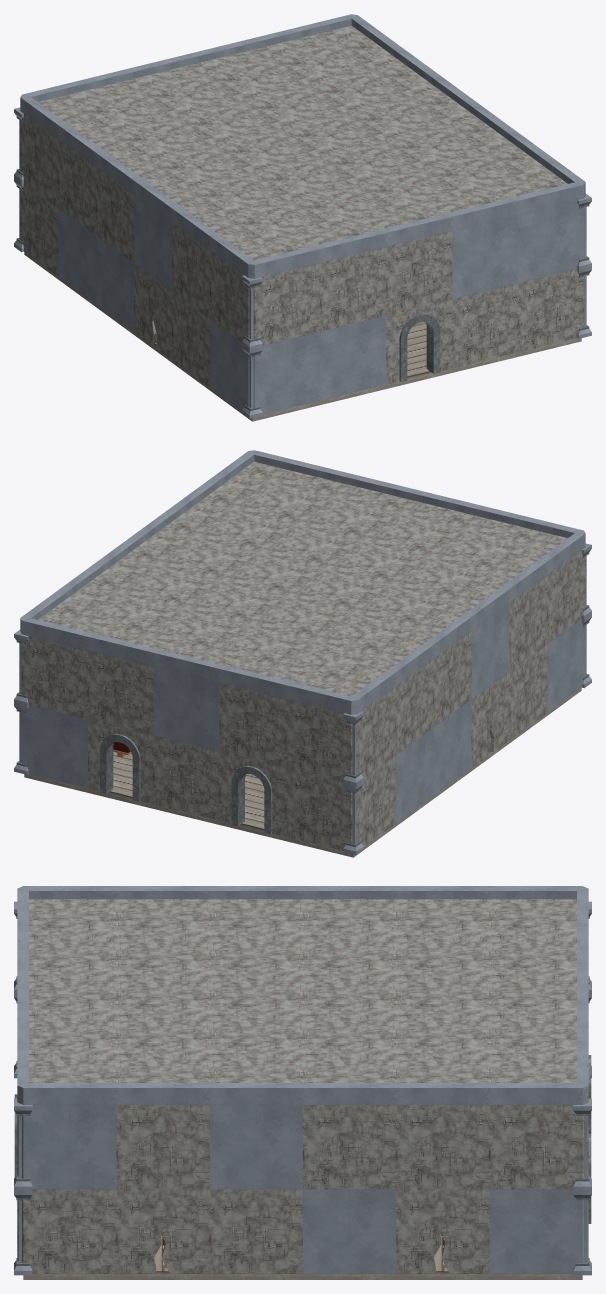
Rendered from Barracks_AF.fbx.
3 renders of one model, top to bottom at view 1: azimuth 30°, elevation 25°; view 2: azimuth 150°, elevation 25°; view 3: azimuth 270°, elevation 25°, orthographic. The views are drawn at different scales.
Visible parts, largest first — view 1: roof_flatSide (×14), wall (×12), roof_flat (×12), wall_corner (×6), roof_flatCorner (×4), doorway_round, wall_destroyedCrack, column_classic (×2), porch_floorCenter; view 2: roof_flatSide (×14), wall (×11), roof_flat (×12), wall_corner (×6), roof_flatCorner (×4), doorway_round (×2), wall_destroyedCrack, porch_floorCenter (×2), column_classic (×2); view 3: roof_flatSide (×14), roof_flat (×12), wall (×6), wall_corner (×4), roof_flatCorner (×4), wall_destroyedCrack (×2), porch_floorCenter (×6), column_classic (×4).
Part boxes in pixels (box(x1,y1,x2,y2)): roof_flatSide (×14): box(58, 30, 547, 262); wall (×12): box(58, 139, 517, 400); roof_flat (×12): box(126, 65, 480, 227); wall_corner (×6): box(20, 114, 584, 414); roof_flatCorner (×4): box(20, 14, 585, 278); doorway_round: box(386, 299, 452, 384); wall_destroyedCrack: box(134, 264, 172, 359); column_classic (×2): box(242, 275, 262, 418); porch_floorCenter: box(384, 339, 449, 389); roof_flatSide (×14): box(59, 466, 547, 698); wall (×11): box(88, 575, 547, 823); roof_flat (×12): box(126, 502, 479, 663); wall_corner (×6): box(21, 550, 585, 850); roof_flatCorner (×4): box(20, 450, 585, 714); doorway_round (×2): box(88, 719, 285, 836); wall_destroyedCrack: box(471, 672, 509, 767); porch_floorCenter (×2): box(90, 758, 287, 841); column_classic (×2): box(343, 711, 363, 854); roof_flatSide (×14): box(17, 886, 588, 1104); roof_flat (×12): box(110, 934, 495, 1056); wall (×6): box(116, 1105, 489, 1273); wall_corner (×4): box(17, 1105, 588, 1273); roof_flatCorner (×4): box(17, 886, 588, 1104); wall_destroyedCrack (×2): box(116, 1189, 489, 1273); porch_floorCenter (×6): box(23, 1233, 582, 1279); column_classic (×4): box(14, 1098, 591, 1275).
Bounding box in the file's own units: 52 × 23 × 62.
